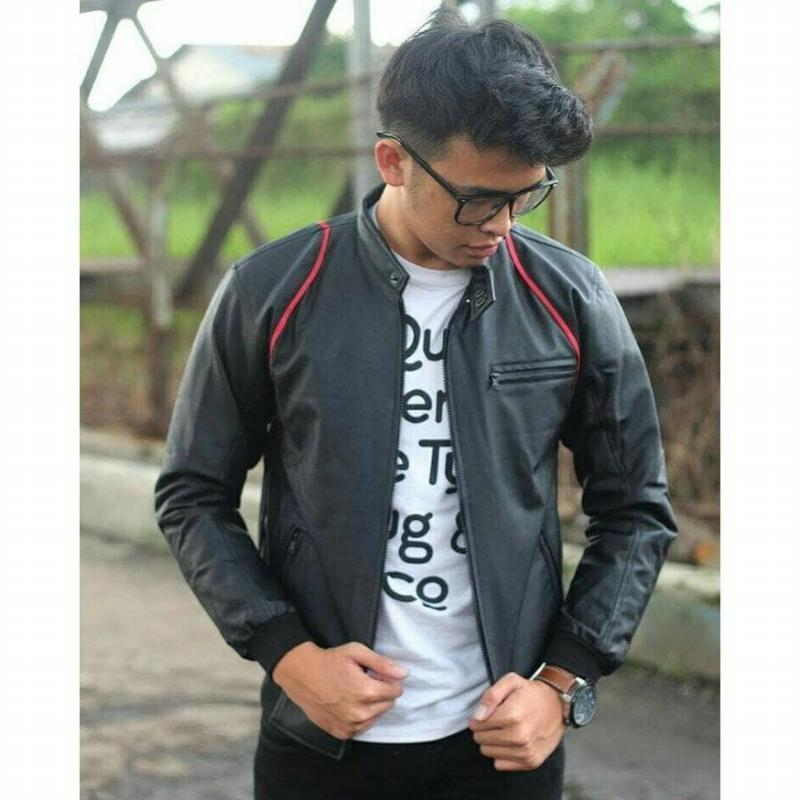jacket: (152, 181, 680, 769)
short sleeve shirt: (345, 203, 490, 747)
